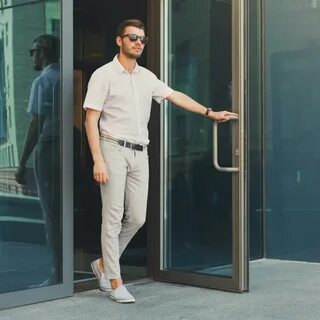awake: (82, 18, 191, 305)
